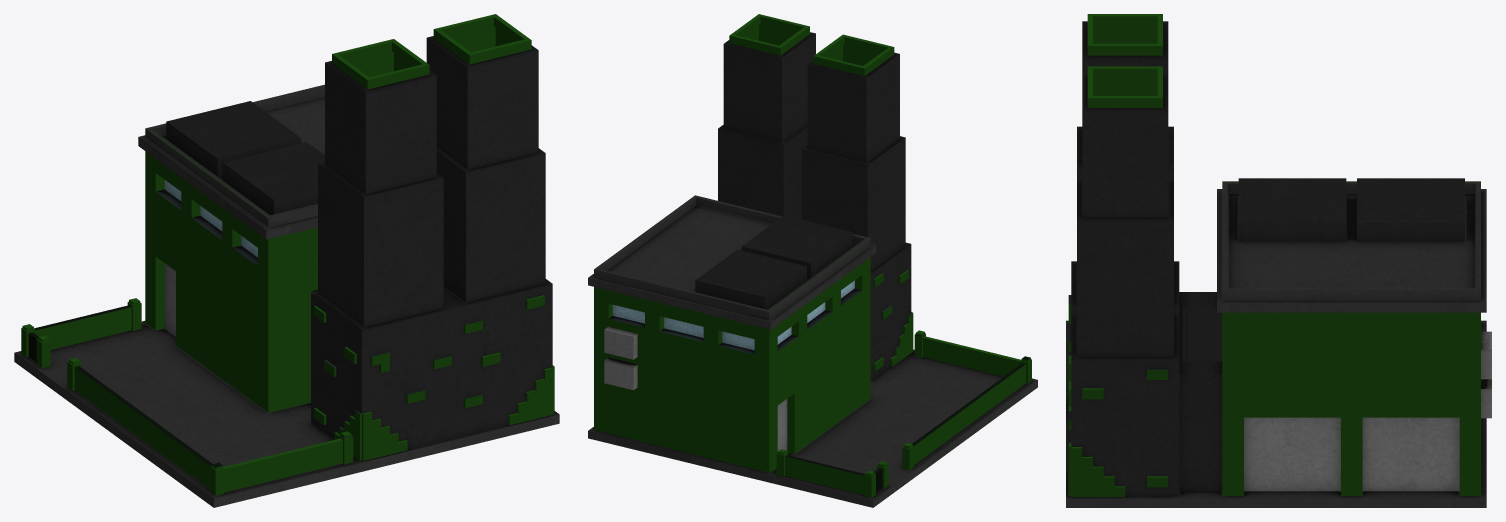
The model's file is FabricaOrdinaria.fbx.
The picture shows the model from 3 angles, left to right: view 1: azimuth 30°, elevation 25°; view 2: azimuth 150°, elevation 25°; view 3: azimuth 270°, elevation 25°; orthographic projection. The views are drawn at different scales.
Parts seen in each view (by area): view 1: VTP_Factory; view 2: VTP_Factory; view 3: VTP_Factory.
Part boxes in pixels (x1,y1,x2,y2): VTP_Factory: [14, 14, 559, 507]; VTP_Factory: [588, 14, 1037, 507]; VTP_Factory: [1066, 14, 1491, 507].
Size of the model in its own units: 7800 by 8200 by 7900.
Materials: 2 (1 with a texture image).
